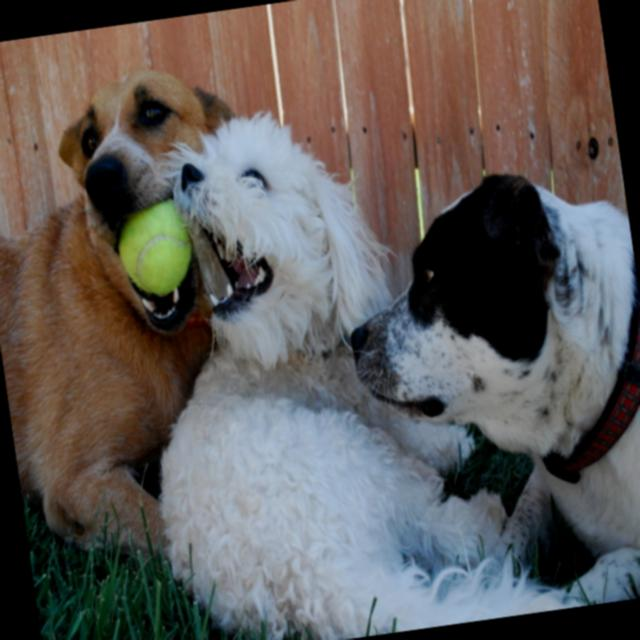Tennis ball: (111, 197, 198, 300)
